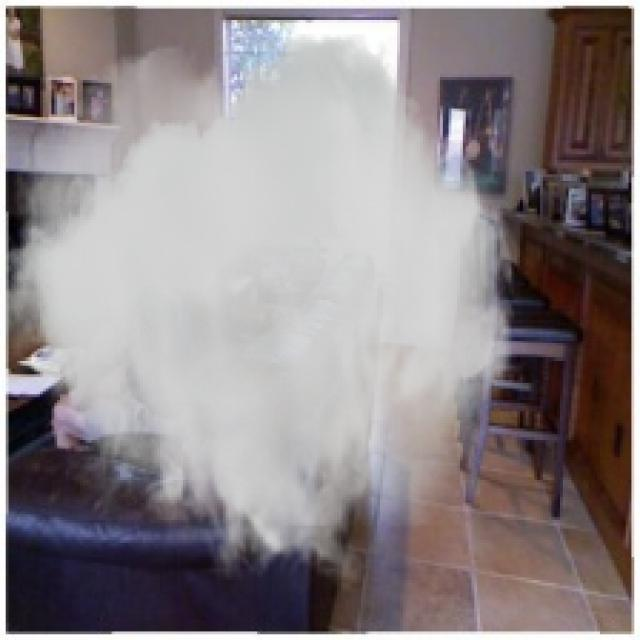Smoke: (6, 34, 520, 594)
